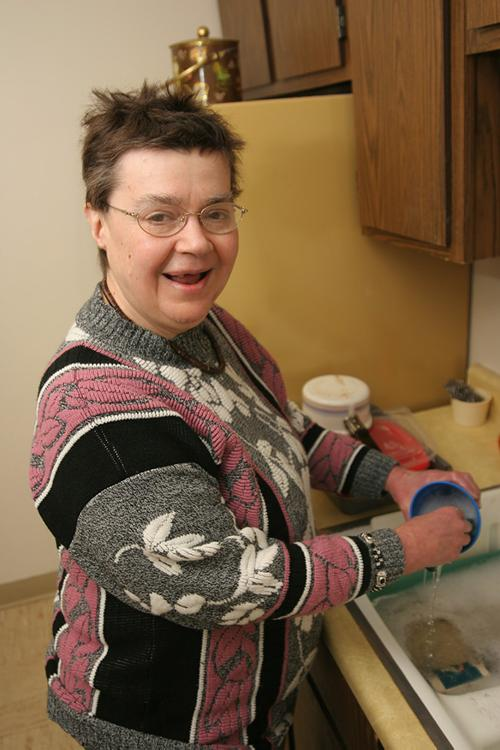person: (31, 80, 485, 747)
